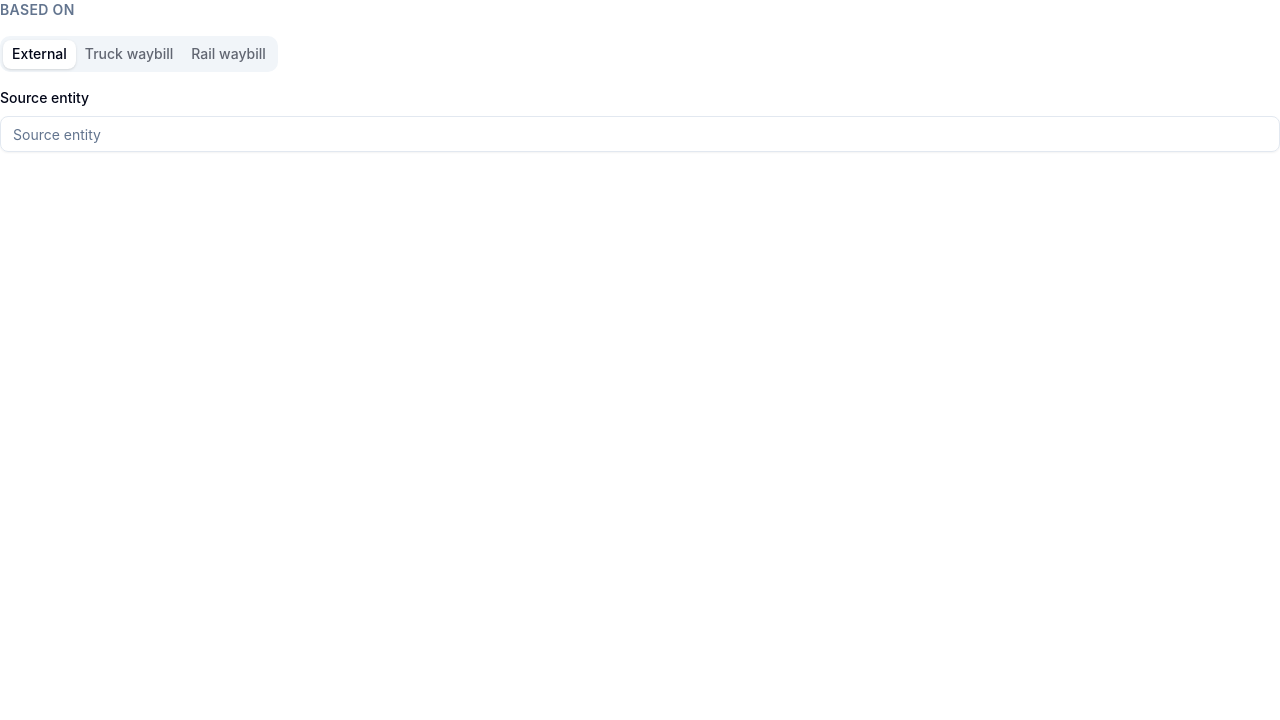
Test case: acceptanceBasisSection — tab switch with non-empty items › shows a confirm dialog when items array is non-empty
The width and height of the screenshot is (1280, 720).
Click the tab "Truck waybill" at {"x": 129, "y": 54}, box x1=76 y1=40 x2=182 y2=68
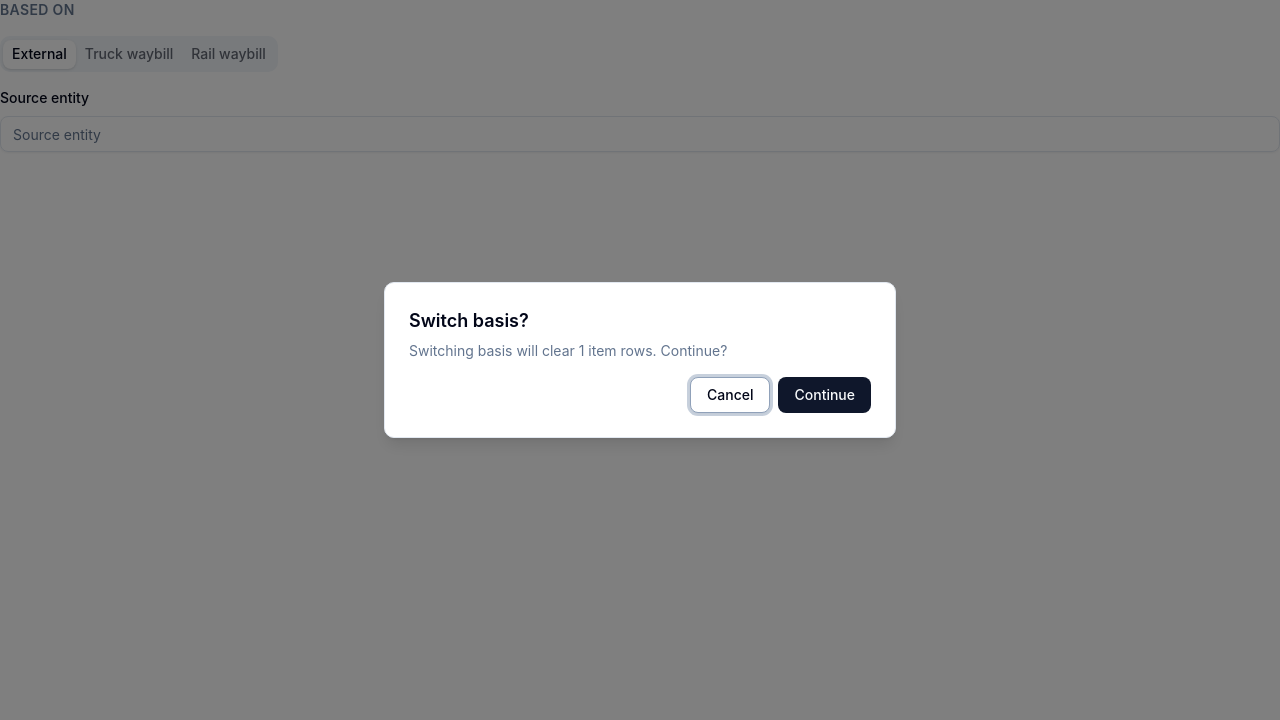
Now the dialog is shown, box x1=384 y1=282 x2=896 y2=438
